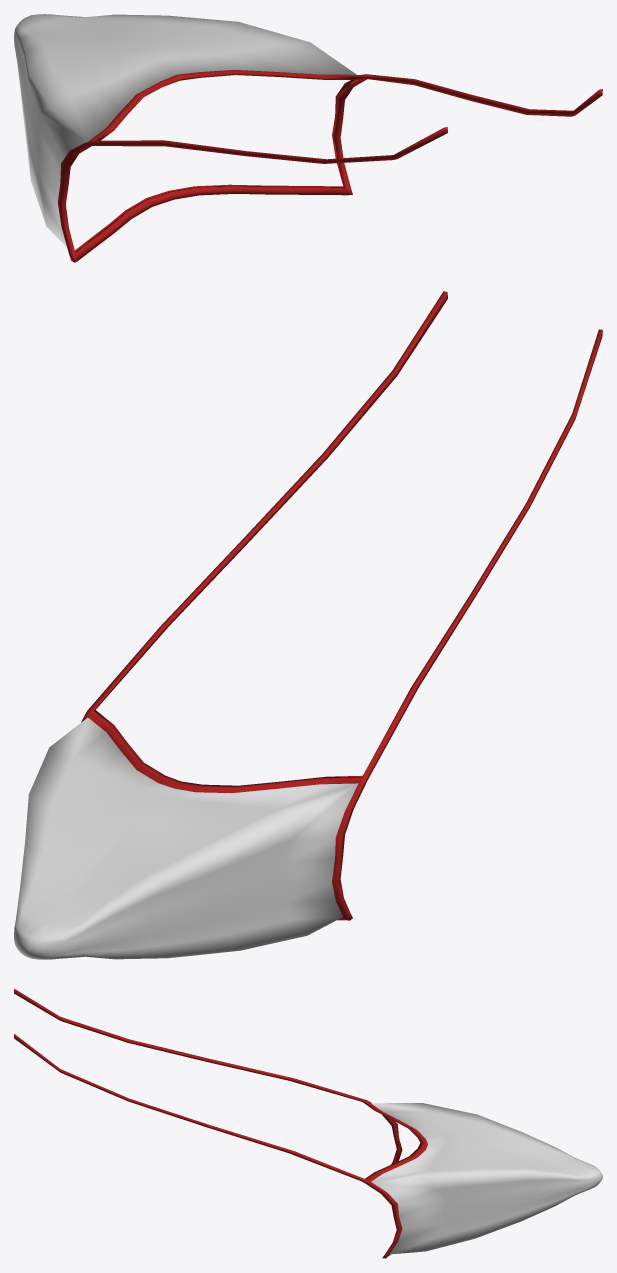
The model's file is fishing_net.glb.
3 renders of one model, top to bottom at view 1: azimuth 30°, elevation 25°; view 2: azimuth 150°, elevation 25°; view 3: azimuth 270°, elevation 25°, orthographic. The views are drawn at different scales.
Parts seen in each view (by area): view 1: Cube; view 2: Cube; view 3: Cube.
Boxes of the visible parts, bbox=[...] form: Cube: bbox=[14, 14, 602, 262]; Cube: bbox=[14, 291, 602, 959]; Cube: bbox=[14, 988, 602, 1258].
Bounding box in the file's own units: 16.25 × 19.31 × 49.94.
